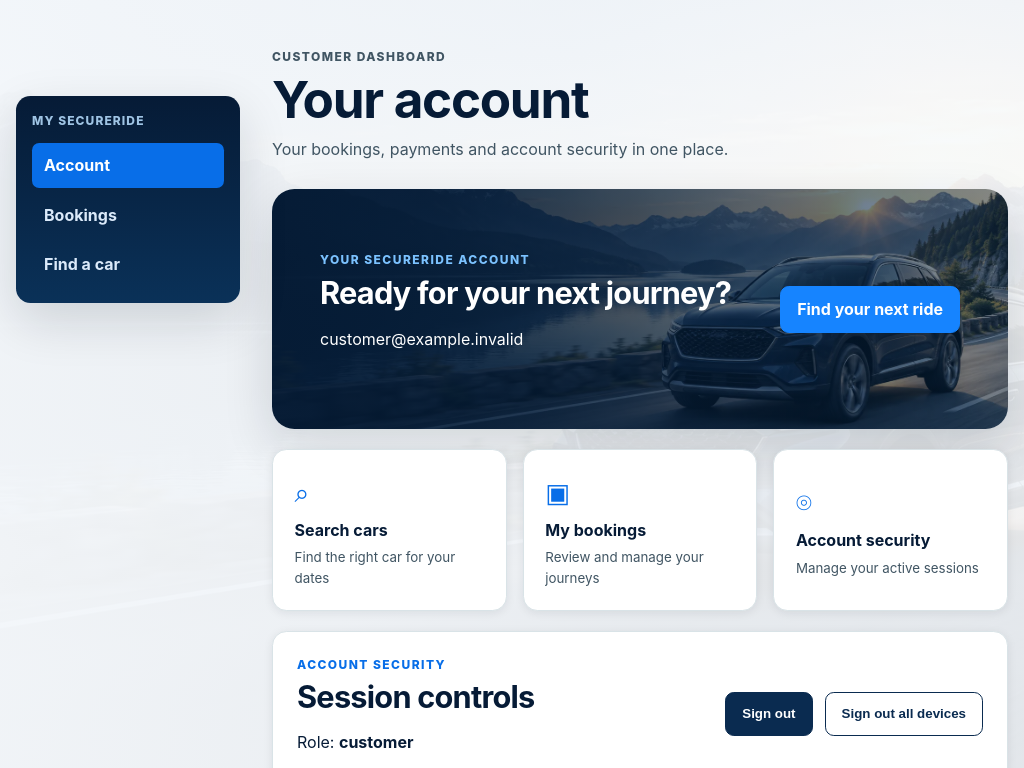
Test: minimal authentication pages › logs out with all-devices=true
Expected: the heading "Your account" is shown, 272,68 -> 588,130
Click the button "Sign out all devices": (904, 714) 825,692 -> 983,736
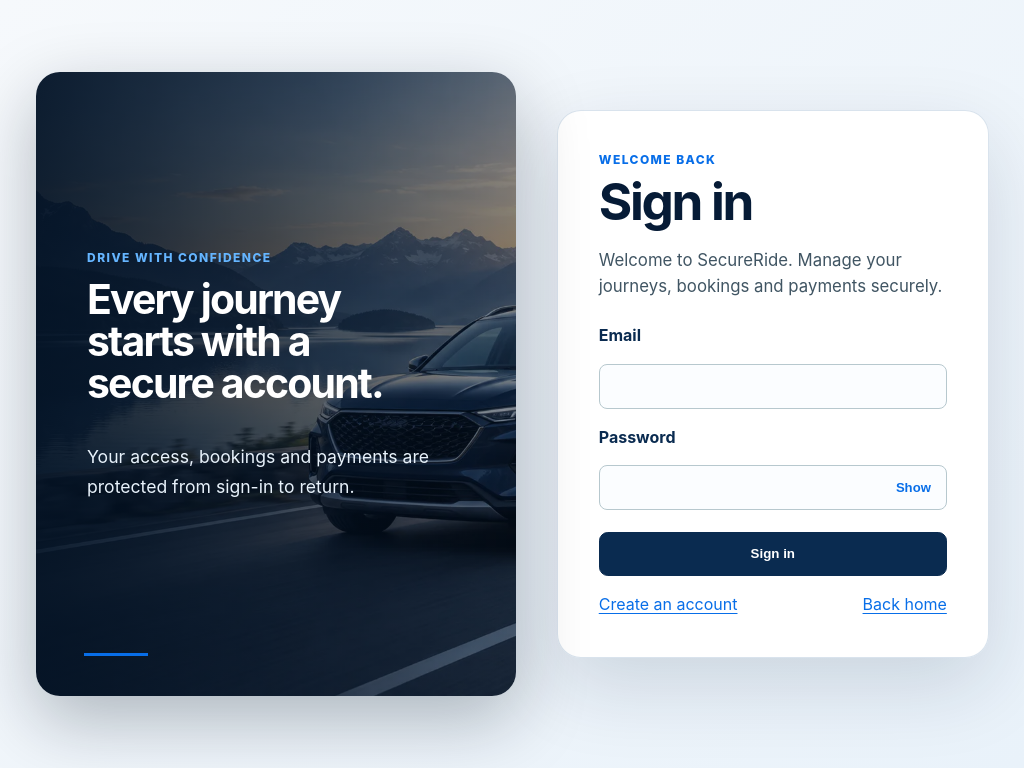
Expected: the heading "Sign in" is shown, 599,170 -> 752,232
